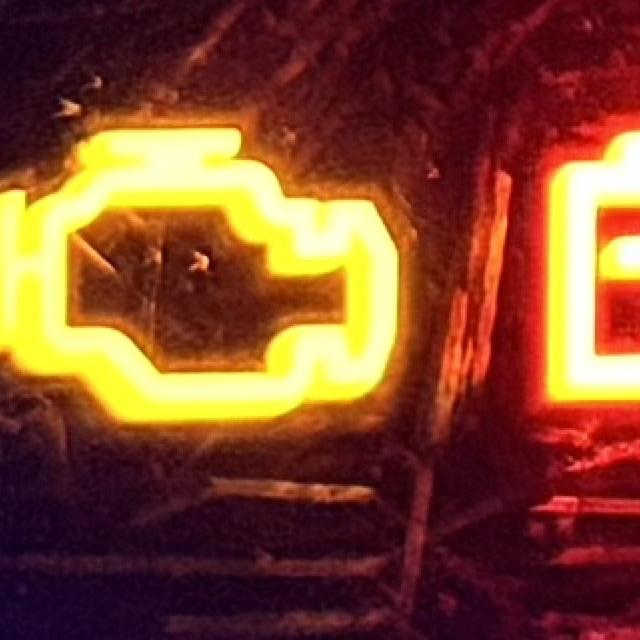Engine Issue: (2, 119, 407, 437)
